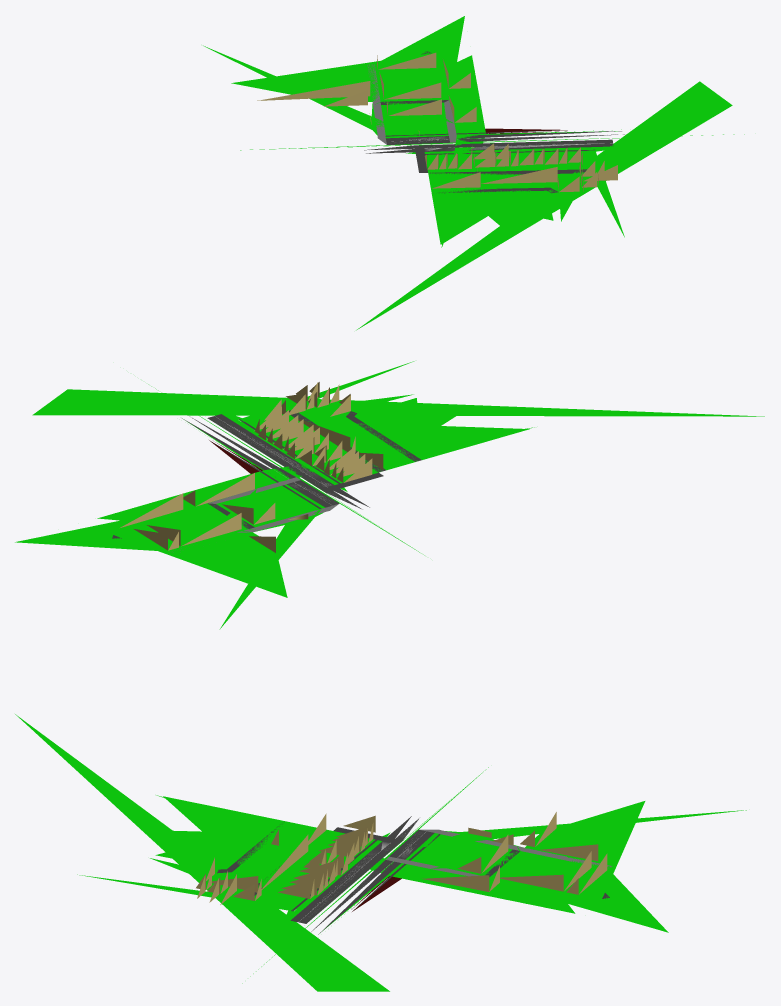
The picture shows the model from 3 angles, top to bottom: view 1: azimuth 30°, elevation 25°; view 2: azimuth 150°, elevation 25°; view 3: azimuth 270°, elevation 25°; orthographic projection. The views are drawn at different scales.
Size of the model in its own units: 300 by 7.5 by 300.
